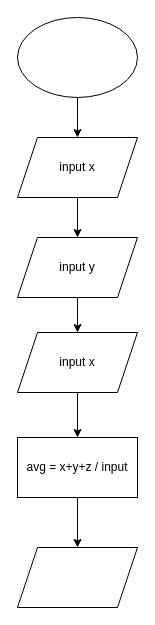
The diagram is 155 pixels wide and 625 high, and some of its shapes have lost their labels. Each missing label, with the box of its shape:
output avg: (16, 546, 138, 608)
start: (16, 16, 138, 98)
